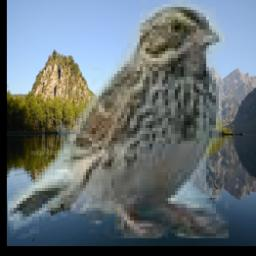Sparrow: (8, 0, 229, 238)
